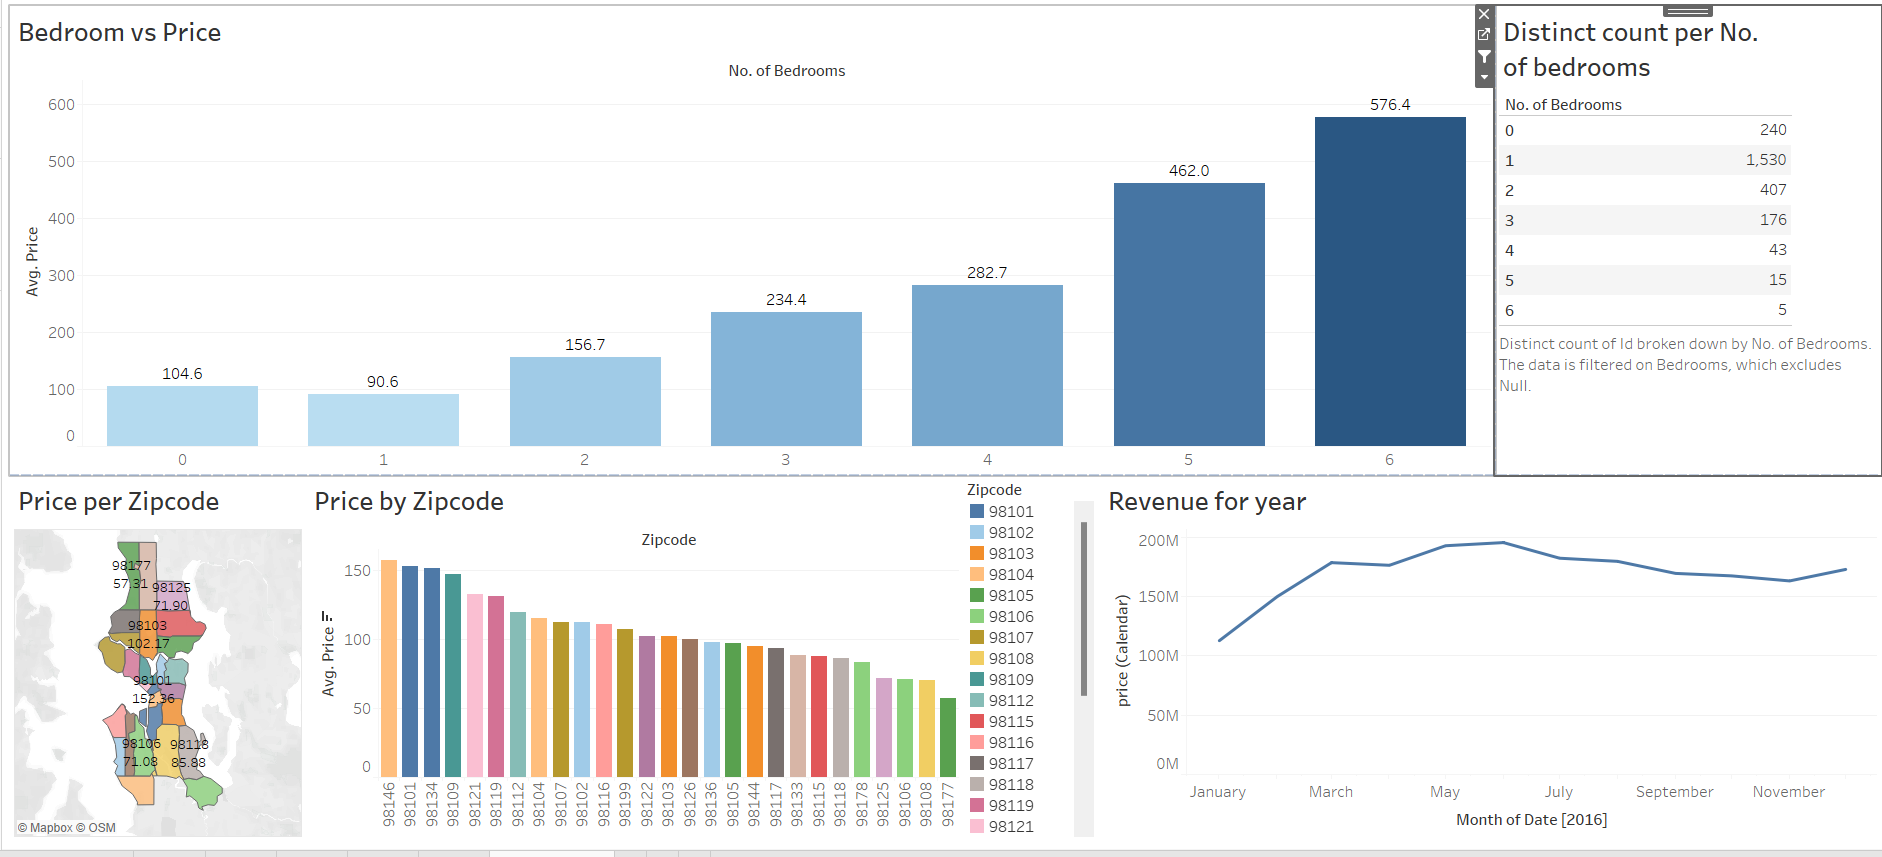

The dashboard page shown, as its layout file describes it:
{"tool":"tableau","page":{"name":"Dashboard 1","canvas":[1000,1000],"units":"permille","ordinal":0},"visuals":[{"type":"worksheet","title":"Sheet 4","mark":"Automatic","rows":["price"],"cols":["Calculation_2560296392212418561"],"box":[4.8,9.4,785.9,551.1]},{"type":"worksheet","title":"Sheet 5","mark":"Automatic","rows":["Calculation_2560296392213708802"],"box":[790.6,9.4,204.6,551.1]},{"type":"worksheet","title":"Sheet 2","mark":"Multipolygon","box":[4.8,560.5,156.7,430.1]},{"type":"worksheet","title":"Sheet 1","mark":"Automatic","rows":["price"],"cols":["zipcode"],"box":[161.5,560.5,347.5,430.1]},{"type":"legend","title":"Sheet 1","param":"[federated.0mczyoa0fcig921dg8zhw18x25f3].[none:zipcode:ok]","box":[509,560.5,72.4,430.1]},{"type":"worksheet","title":"Sheet 3","mark":"Automatic","rows":["price (Calendar)"],"cols":["date"],"box":[581.3,560.5,413.9,430.1]}]}

Visuals, with their boxes on the dashboard's canvas, which has no fixed pixel size, in thousandths of its width and height (x1, y1, x2, y2). These are canvas units, not pixel positions in the 1882x857 screenshot, which may show the page scaled, cropped or inside an application window:
"Sheet 4" worksheet: 5, 9, 791, 560
"Sheet 5" worksheet: 791, 9, 995, 560
"Sheet 2" worksheet (Multipolygon marks): 5, 560, 162, 991
"Sheet 1" worksheet: 162, 560, 509, 991
"Sheet 1" legend: 509, 560, 581, 991
"Sheet 3" worksheet: 581, 560, 995, 991
